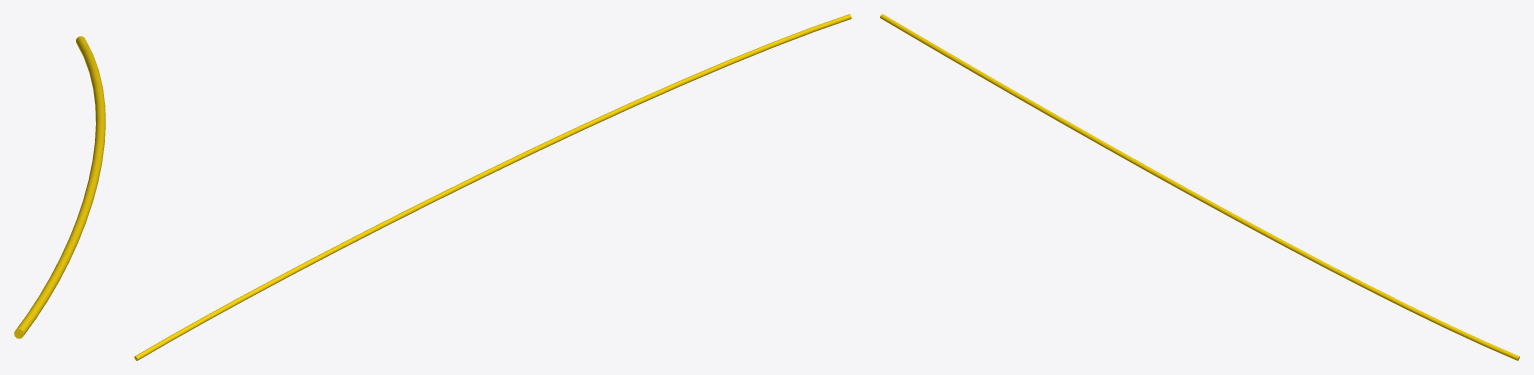
File: Event_420604493_track_9.fbx
The picture shows the model from 3 angles, left to right: view 1: azimuth 90°, elevation 25°; view 2: azimuth 210°, elevation 25°; view 3: azimuth 330°, elevation 25°; orthographic projection. The views are drawn at different scales.
Parts seen in each view (by area): view 1: Model; view 2: Model; view 3: Model.
Part boxes in pixels (x1,y1,x2,y2): Model: [14, 36, 105, 338]; Model: [134, 14, 851, 360]; Model: [880, 14, 1519, 360].
Size of the model in its own units: 6.09 by 1.57 by 0.3697.
